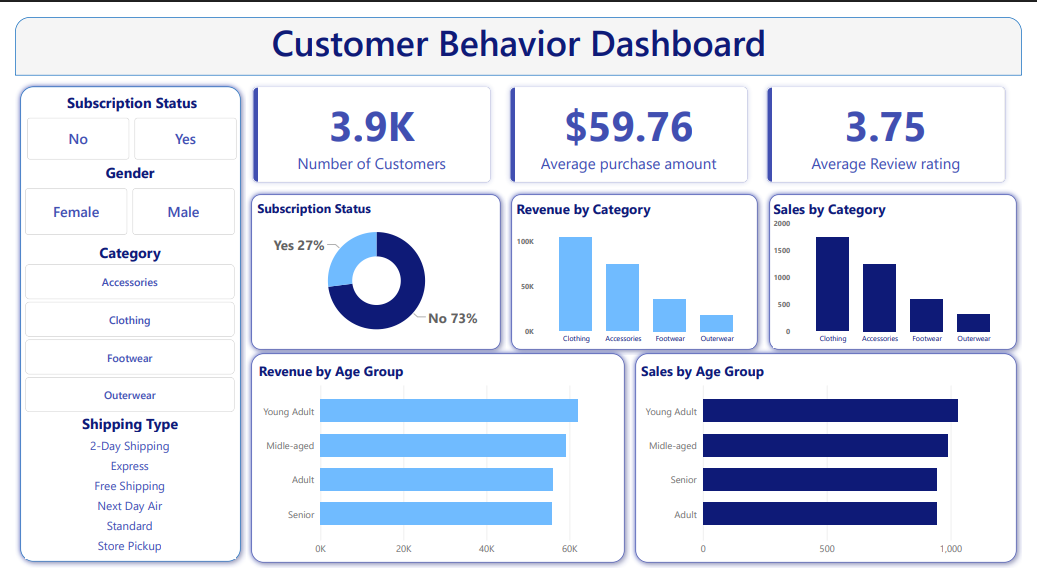

This screenshot's page, from the dashboard's own definition file:
{"tool":"powerbi","page":{"name":"Page 1","canvas":[1500,820],"ordinal":0},"visuals":[{"type":"shape","box":[344.5,491.6,571.9,327.8],"z":0,"group":"g1"},{"type":"cardVisual","fields":{"Data":["customer.Number of Customers","customer.Avg purchase amount","customer.Avg Review rating"]},"box":[344.5,93.6,1143.8,162.2],"z":1000},{"type":"shape","box":[0,0,1500,87],"z":2000},{"type":"textbox","box":[10,0,1481.6,73.6],"z":3000},{"type":"shape","box":[344.5,255.9,386.3,247.5],"z":4000},{"type":"donutChart","title":"Subscription Status","fields":{"Category":["customer.subscription_status"],"Y":["CountNonNull(customer.customer_id)"]},"box":[361.2,270.9,354.5,215.7],"z":5000},{"type":"shape","box":[730.8,255.9,384.6,247.5],"z":6000},{"type":"shape","box":[1115.4,255.9,384.6,247.5],"z":7000},{"type":"clusteredColumnChart","title":"Revenue by Category","fields":{"Category":["customer.category"],"Y":["Sum(customer.purchase_amount)"]},"box":[747.5,270.9,352.8,220.7],"z":8000},{"type":"clusteredColumnChart","title":"Sales by Category","fields":{"Category":["customer.category"],"Y":["customer.Number of Customers"]},"box":[1130.4,270.9,352.8,220.7],"z":9000},{"type":"shape","box":[0,95.3,344.5,724.1],"z":10000},{"type":"advancedSlicerVisual","title":"Subscription Status","fields":{"Values":["customer.subscription_status"]},"box":[18.4,112,312.7,100.3],"z":11000},{"type":"advancedSlicerVisual","title":"Gender","fields":{"Values":["customer.gender"]},"box":[15.1,217.4,312.7,107],"z":12000},{"type":"advancedSlicerVisual","title":"Category","fields":{"Values":["customer.category"]},"box":[15.1,336.1,312.7,254.2],"z":13000},{"type":"listSlicer","title":"Shipping Type","fields":{"Values":["customer.shipping_type"]},"box":[15.1,590.3,312.7,215.7],"z":14000},{"type":"clusteredBarChart","title":"Revenue by Age Group","fields":{"Category":["customer.age_group"],"Y":["Sum(customer.purchase_amount)"]},"box":[362.9,511.7,536.8,294.3],"z":15000,"group":"g2"},{"type":"shape","box":[916.4,491.6,583.6,327.8],"z":16000,"group":"g1"},{"type":"clusteredBarChart","title":"Sales by Age Group","fields":{"Category":["customer.age_group"],"Y":["CountNonNull(customer.customer_id)"]},"box":[933.1,511.7,551.8,294.3],"z":17000,"group":"g2"},{"type":"group","id":"g1","title":"Group 1","box":[344.5,491.6,1155.5,327.8],"z":17001},{"type":"group","id":"g2","title":"Group 2","box":[362.9,511.7,1122.1,294.3],"z":17002}]}

Visuals, with their boxes in screenshot pixels (x1, y1, x2, y2), scaled from the page's 1500x820 canvas onto the 1037x580 screenshot:
shape: {"left": 238, "top": 348, "right": 634, "bottom": 579}
cardVisual - customer.Number of Customers x customer.Avg purchase amount: {"left": 238, "top": 66, "right": 1029, "bottom": 181}
shape: {"left": 0, "top": 0, "right": 1036, "bottom": 62}
textbox: {"left": 7, "top": 0, "right": 1031, "bottom": 52}
shape: {"left": 238, "top": 181, "right": 505, "bottom": 356}
"Subscription Status" donutChart: {"left": 250, "top": 192, "right": 495, "bottom": 344}
shape: {"left": 505, "top": 181, "right": 771, "bottom": 356}
shape: {"left": 771, "top": 181, "right": 1036, "bottom": 356}
"Revenue by Category" clusteredColumnChart: {"left": 517, "top": 192, "right": 761, "bottom": 348}
"Sales by Category" clusteredColumnChart: {"left": 781, "top": 192, "right": 1025, "bottom": 348}
shape: {"left": 0, "top": 67, "right": 238, "bottom": 579}
"Subscription Status" advancedSlicerVisual: {"left": 13, "top": 79, "right": 229, "bottom": 150}
"Gender" advancedSlicerVisual: {"left": 10, "top": 154, "right": 227, "bottom": 229}
"Category" advancedSlicerVisual: {"left": 10, "top": 238, "right": 227, "bottom": 418}
"Shipping Type" listSlicer: {"left": 10, "top": 418, "right": 227, "bottom": 570}
"Revenue by Age Group" clusteredBarChart: {"left": 251, "top": 362, "right": 622, "bottom": 570}
shape: {"left": 634, "top": 348, "right": 1036, "bottom": 579}
"Sales by Age Group" clusteredBarChart: {"left": 645, "top": 362, "right": 1027, "bottom": 570}
"Group 1" group: {"left": 238, "top": 348, "right": 1036, "bottom": 579}
"Group 2" group: {"left": 251, "top": 362, "right": 1027, "bottom": 570}
